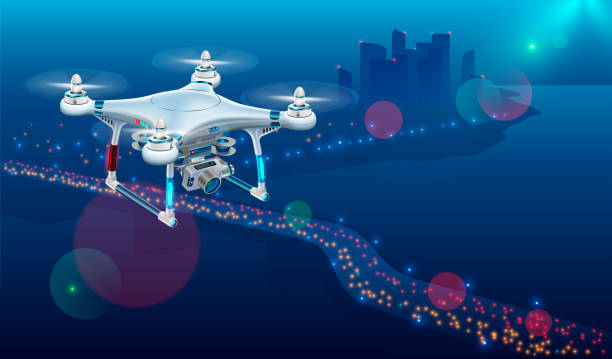Drone: (32, 44, 338, 226)
